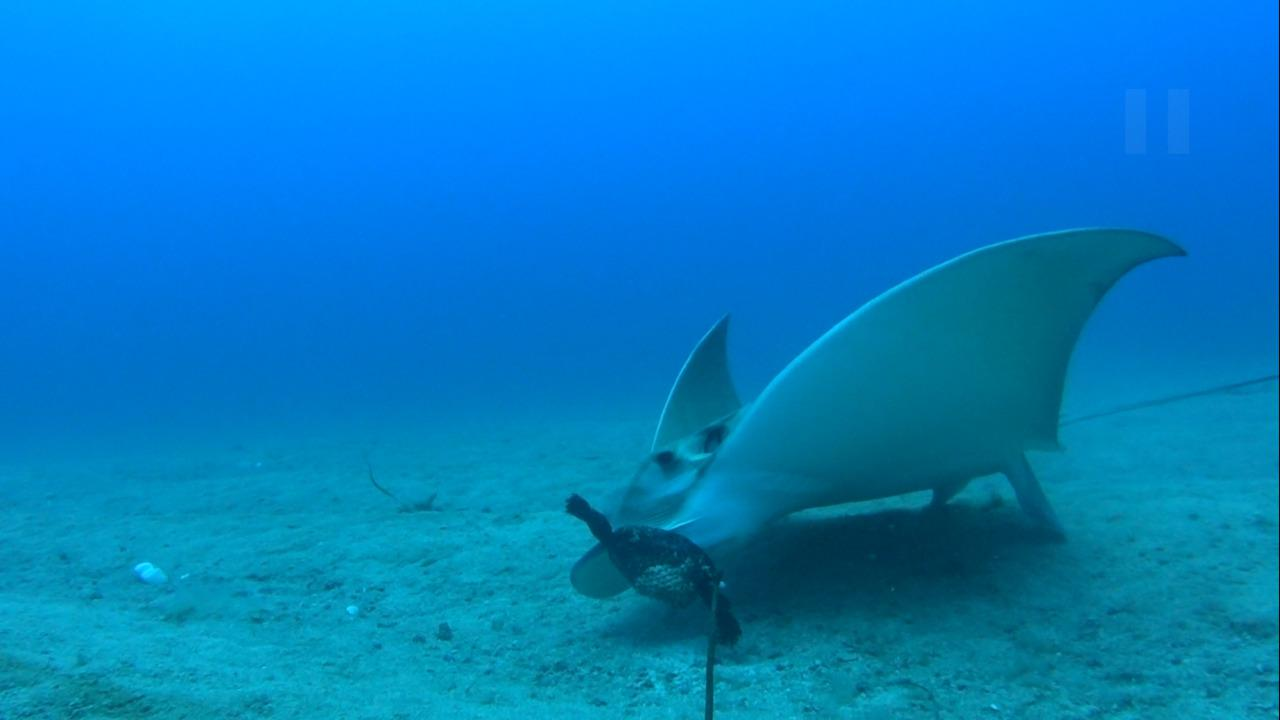myliobatis: (565, 223, 1279, 607)
